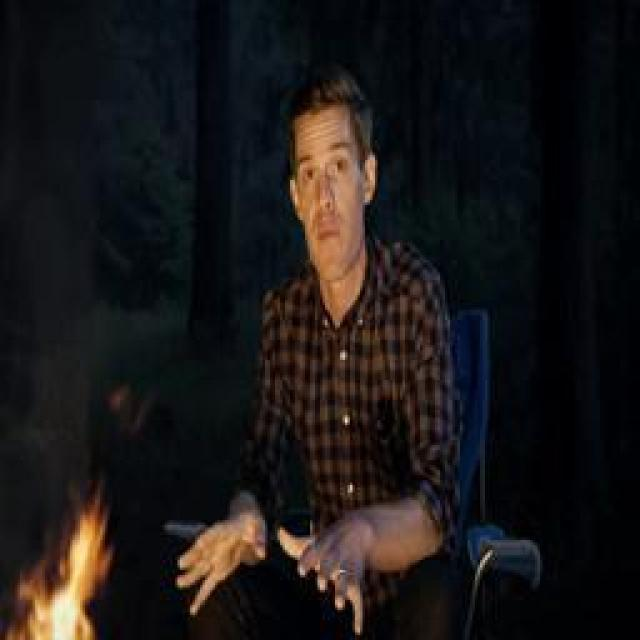Fire: (16, 500, 116, 640)
